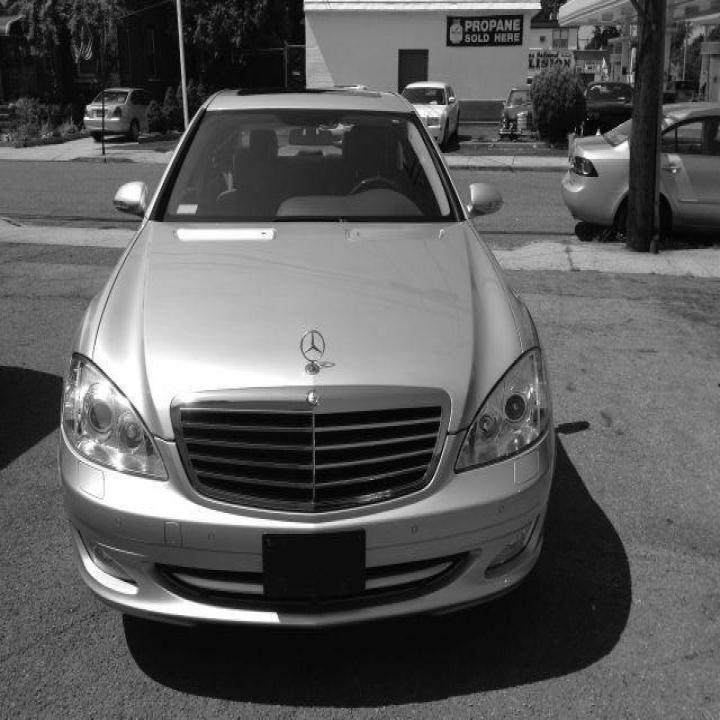car: (55, 83, 557, 632), (561, 102, 720, 243), (399, 80, 459, 150), (82, 85, 153, 141), (497, 85, 538, 141)
